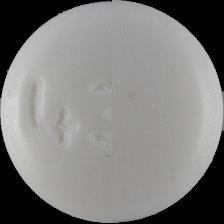69189-0437: (0, 0, 224, 224)
